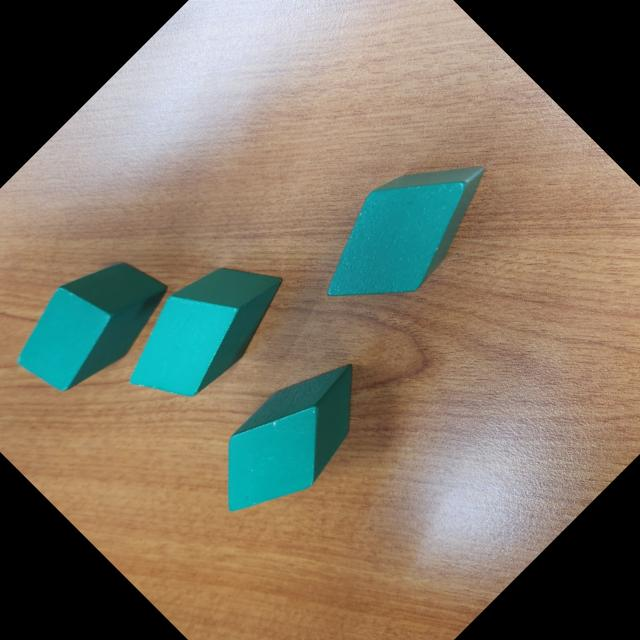green: (295, 122, 511, 338), (192, 338, 392, 539), (105, 230, 301, 426), (0, 232, 182, 412)
